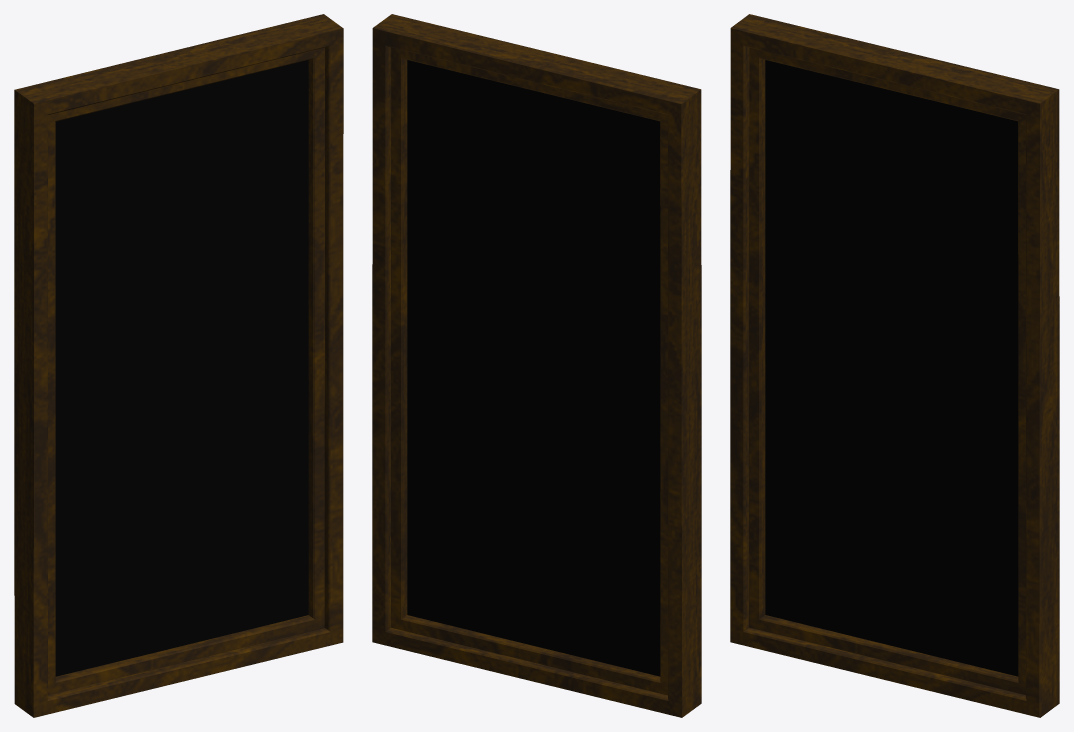
Rendered from WindowFactory73448.spawn_asset15.glb.
The picture shows the model from 3 angles, left to right: view 1: azimuth 30°, elevation 25°; view 2: azimuth 150°, elevation 25°; view 3: azimuth 330°, elevation 25°; orthographic projection.
Parts seen in each view (by area): view 1: WindowFactory(73448).spawn_asset(15).001; view 2: WindowFactory(73448).spawn_asset(15).001; view 3: WindowFactory(73448).spawn_asset(15).001.
Boxes of the visible parts, left/top/right/bottom form: WindowFactory(73448).spawn_asset(15).001: left=14, top=14, right=343, bottom=717; WindowFactory(73448).spawn_asset(15).001: left=372, top=14, right=701, bottom=717; WindowFactory(73448).spawn_asset(15).001: left=730, top=14, right=1059, bottom=717.
Size of the model in its own units: 0.7423 by 1.41 by 0.0824.
Materials: 1 (1 with a texture image).
